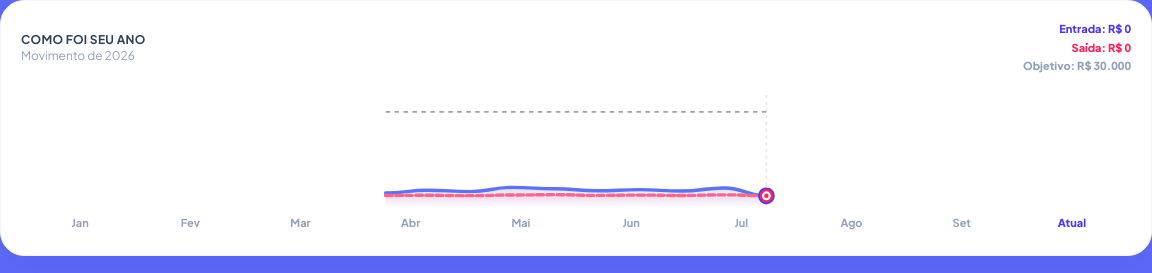
YearlyChart › returns to the current month when 'Atual' is pressed
Click the button with aria-label "abril" at (411, 223), box [356,214,466,231]
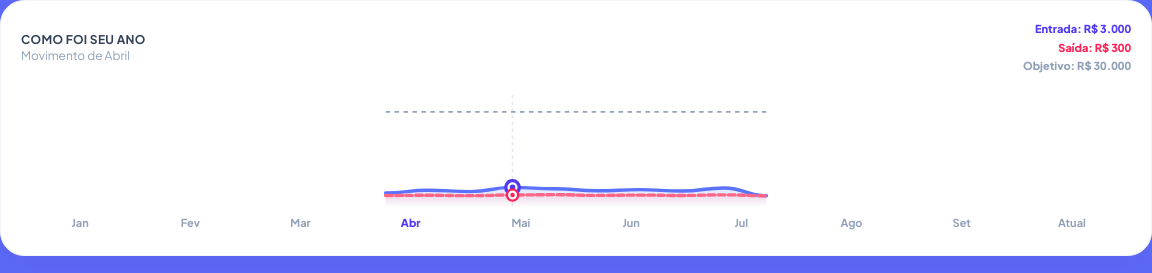
Click the button with aria-label "mês atual" at (1072, 223), box [1017,214,1127,231]
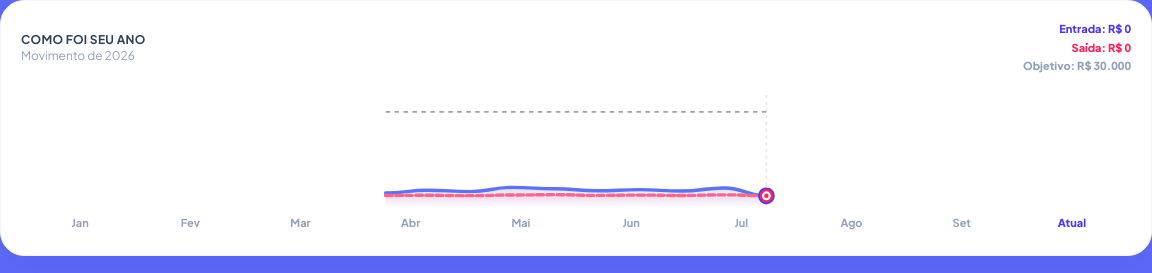
Check: the text "Entrada: R$ 0" is shown, box [1059,21,1131,38]
Check: the text "Saída: R$ 0" is shown, box [1072,40,1131,56]
